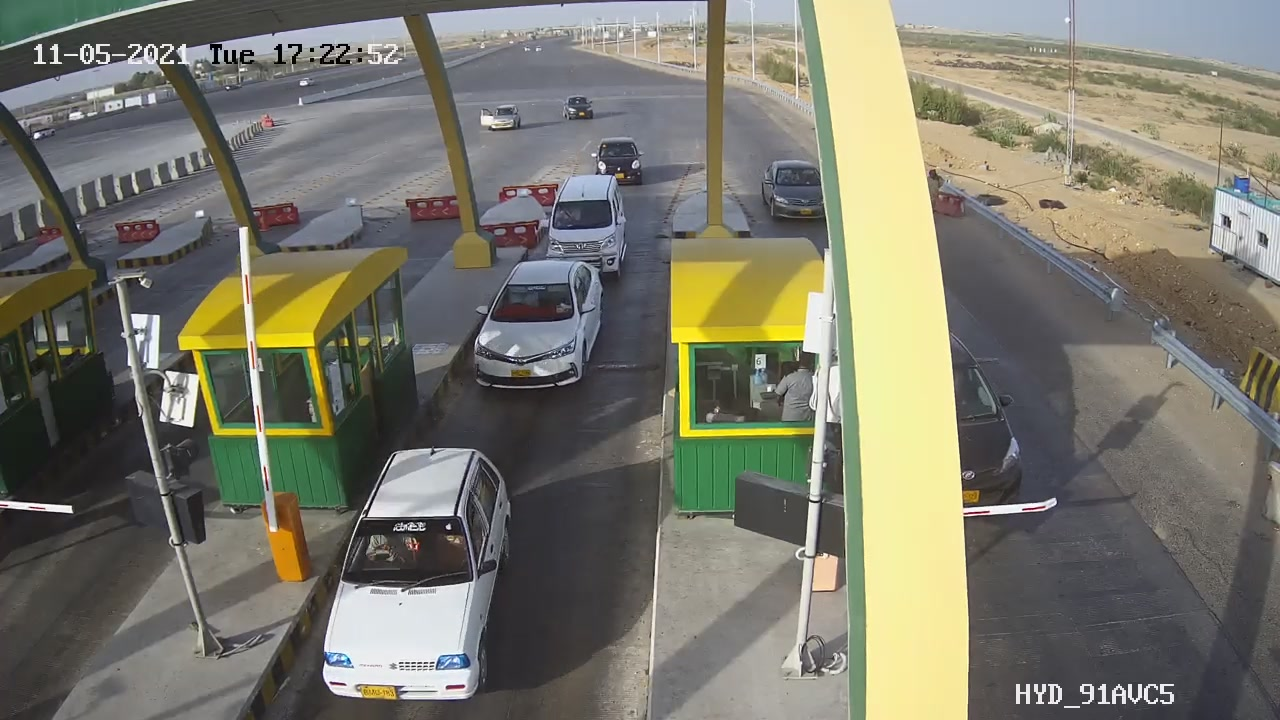F1: (452, 249, 624, 404)
